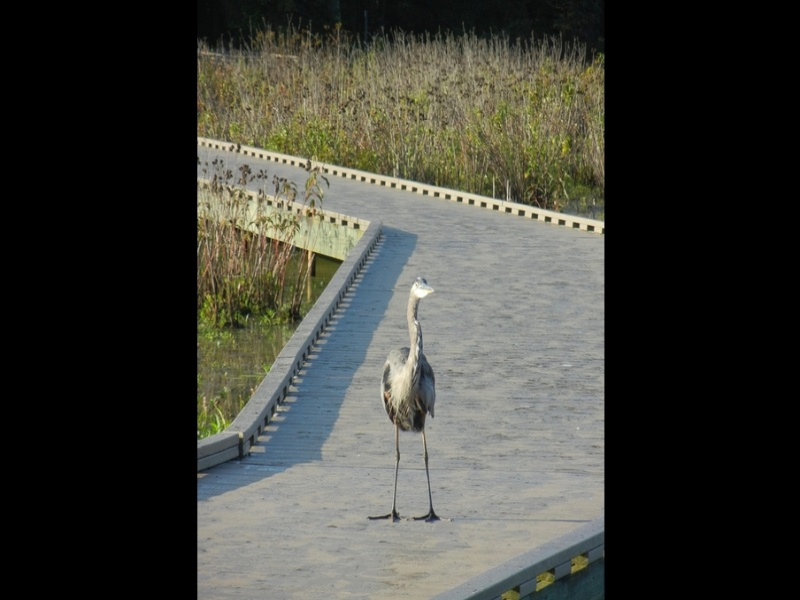heron: (379, 276, 444, 525)
